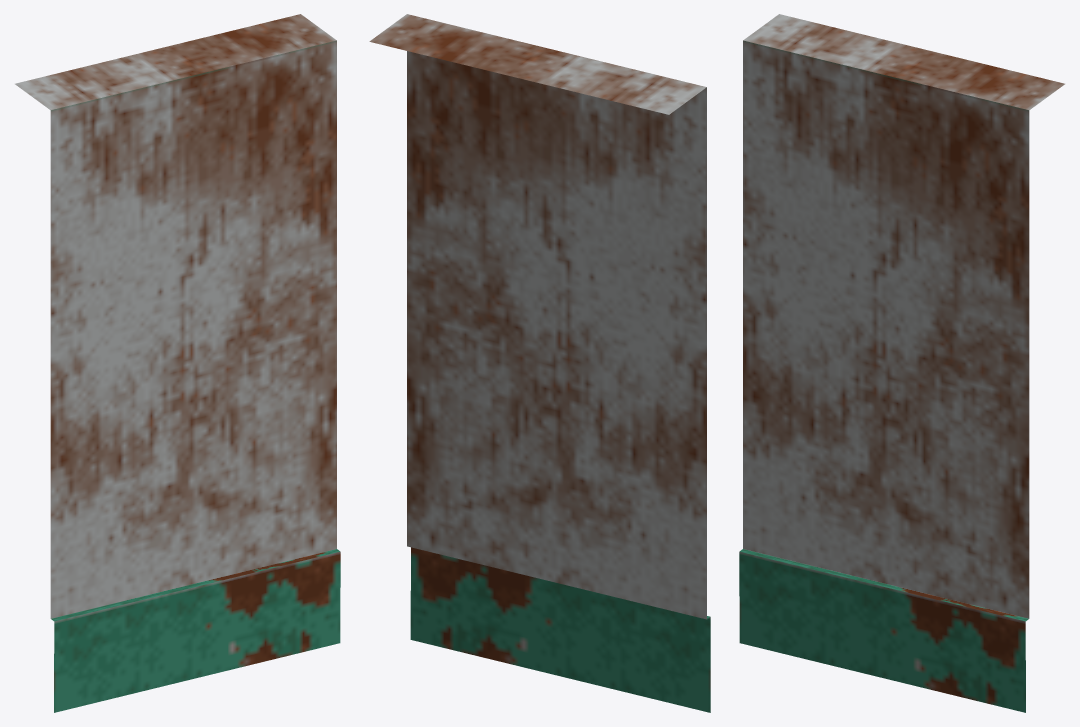
Rendered from General Wall_1_4.fbx.
3 renders of one model, left to right at view 1: azimuth 30°, elevation 25°; view 2: azimuth 150°, elevation 25°; view 3: azimuth 330°, elevation 25°, orthographic. The views are drawn at different scales.
Parts seen in each view (by area): view 1: Cube.001; view 2: Cube.001; view 3: Cube.001.
Part boxes in pixels (left/top/right/bottom): Cube.001: left=15, top=14, right=340, bottom=712; Cube.001: left=369, top=14, right=710, bottom=712; Cube.001: left=739, top=14, right=1064, bottom=712.
Bounding box in the file's own units: 100 × 200 × 24.11.
Materials: 1 (1 with a texture image).
